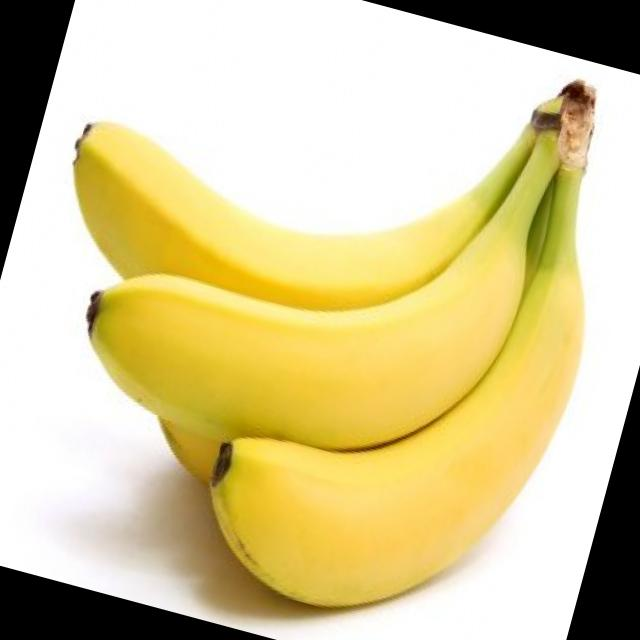banana: (177, 140, 628, 640), (43, 115, 556, 554), (20, 39, 549, 436)
